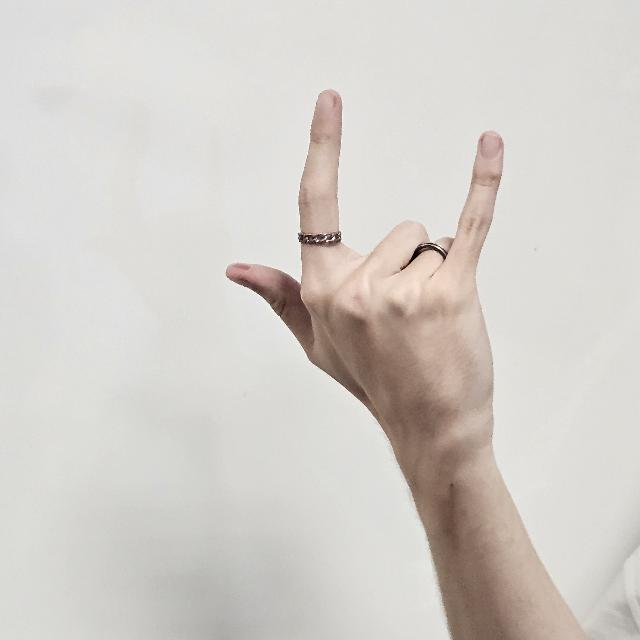Cima: (224, 75, 503, 497)
